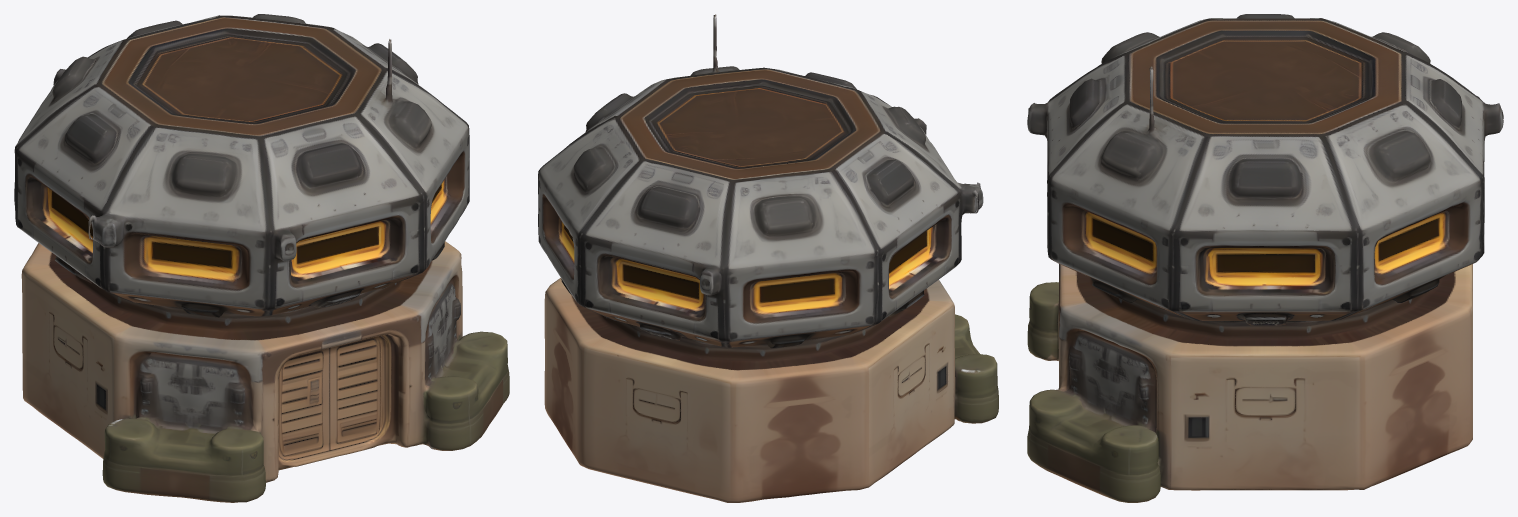
Rendered from Bunker.fbx.
The picture shows the model from 3 angles, left to right: view 1: azimuth 30°, elevation 25°; view 2: azimuth 150°, elevation 25°; view 3: azimuth 270°, elevation 25°; orthographic projection. The views are drawn at different scales.
Parts seen in each view (by area): view 1: Bunker; view 2: Bunker; view 3: Bunker.
Boxes of the visible parts, x1=… form: Bunker: x1=14, y1=14, x2=509, y2=502; Bunker: x1=538, y1=14, x2=998, y2=502; Bunker: x1=1027, y1=14, x2=1503, y2=502.
Bounding box in the file's own units: 190 × 169 × 190.
